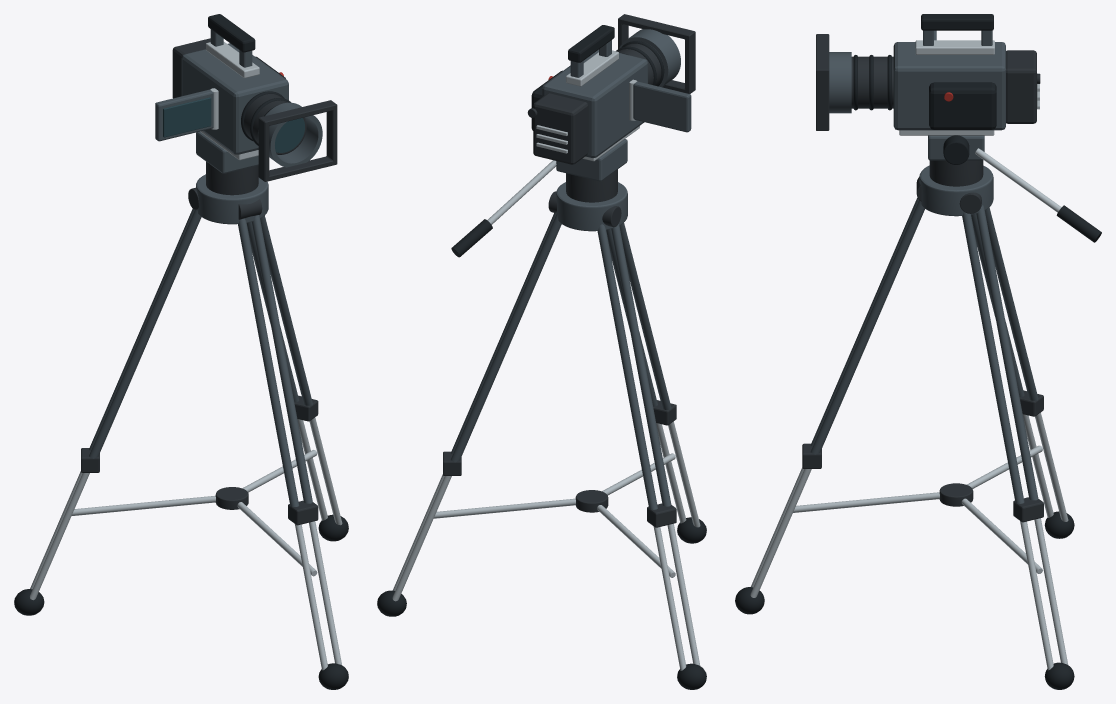
Rendered from city-tripod-video-camera.glb.
3 renders of one model, left to right at view 1: azimuth 30°, elevation 25°; view 2: azimuth 150°, elevation 25°; view 3: azimuth 270°, elevation 25°, orthographic. The views are drawn at different scales.
Parts seen in each view (by area): view 1: Assembly | Dark slate equipment housing, Assembly | Satin support metal, Assembly | Graphite cloth and trim, Assembly | Soft black grip and cable, Assembly | Opaque inactive lens and screen; view 2: Assembly | Dark slate equipment housing, Assembly | Graphite cloth and trim, Assembly | Satin support metal, Assembly | Soft black grip and cable; view 3: Assembly | Dark slate equipment housing, Assembly | Satin support metal, Assembly | Graphite cloth and trim, Assembly | Soft black grip and cable.
Boxes of the visible parts, x1,y1,x2,y2 form: Assembly | Dark slate equipment housing: (89, 29, 322, 507); Assembly | Satin support metal: (30, 41, 342, 670); Assembly | Graphite cloth and trim: (81, 38, 337, 525); Assembly | Soft black grip and cable: (14, 14, 348, 689); Assembly | Opaque inactive lens and screen: (163, 97, 304, 152); Assembly | Dark slate equipment housing: (451, 29, 691, 509); Assembly | Graphite cloth and trim: (443, 14, 695, 527); Assembly | Satin support metal: (392, 50, 700, 670); Assembly | Soft black grip and cable: (377, 25, 706, 689); Assembly | Dark slate equipment housing: (810, 30, 1038, 503); Assembly | Satin support metal: (750, 40, 1068, 670); Assembly | Graphite cloth and trim: (802, 34, 1043, 522); Assembly | Soft black grip and cable: (735, 14, 1101, 689).
Bounding box in the file's own units: 1.02 × 1.72 × 0.9597.
